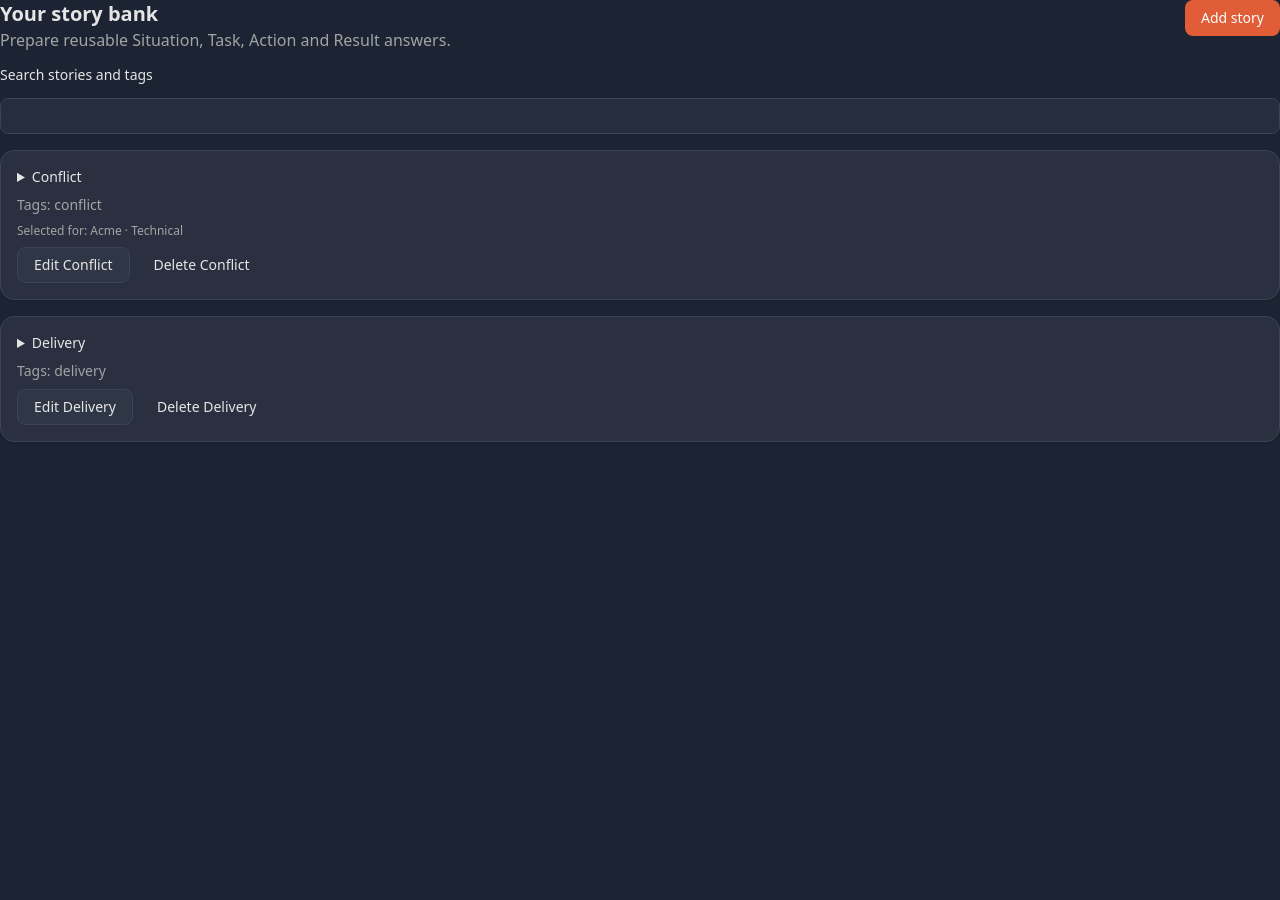
Test: story bank UI › keeps edits available after a failed save
Click the button "Add story".
click(1232, 18)  # box [1185, 0, 1279, 36]
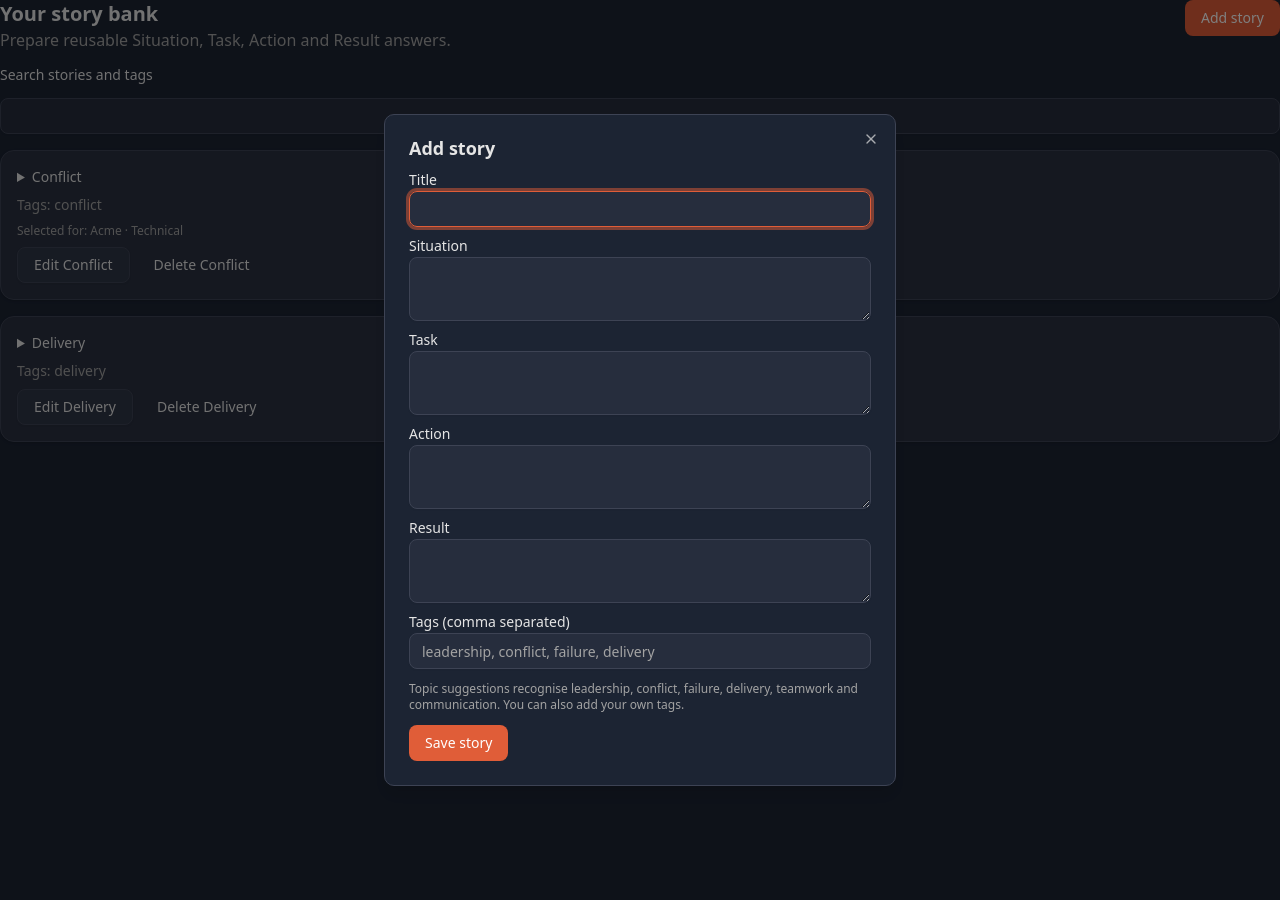
Type "Keep this draft" into the field labelled "Title".
click(640, 209); type("Keep this draft")  # box [409, 191, 871, 227]
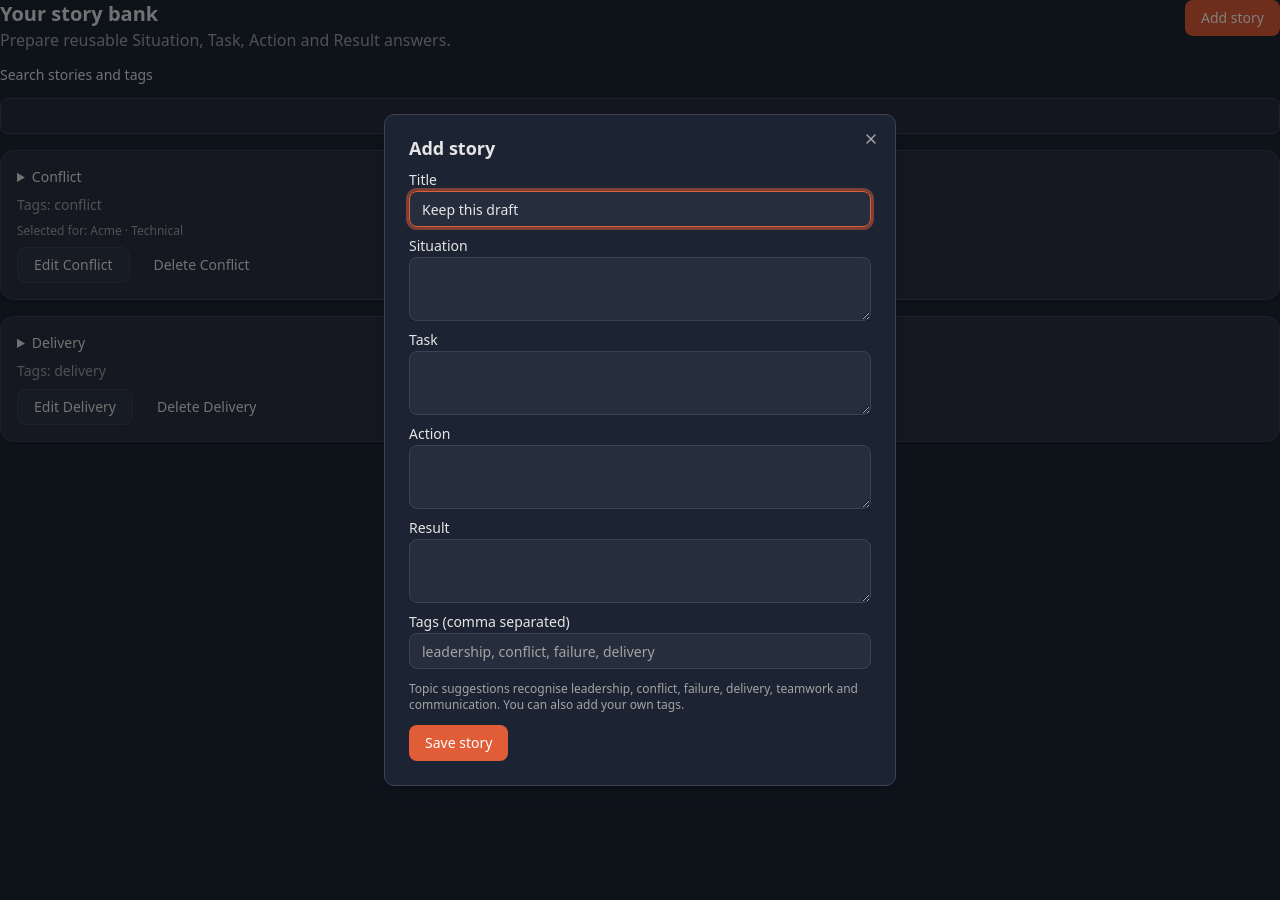
Click the button "Save story".
click(459, 743)  # box [409, 725, 508, 761]
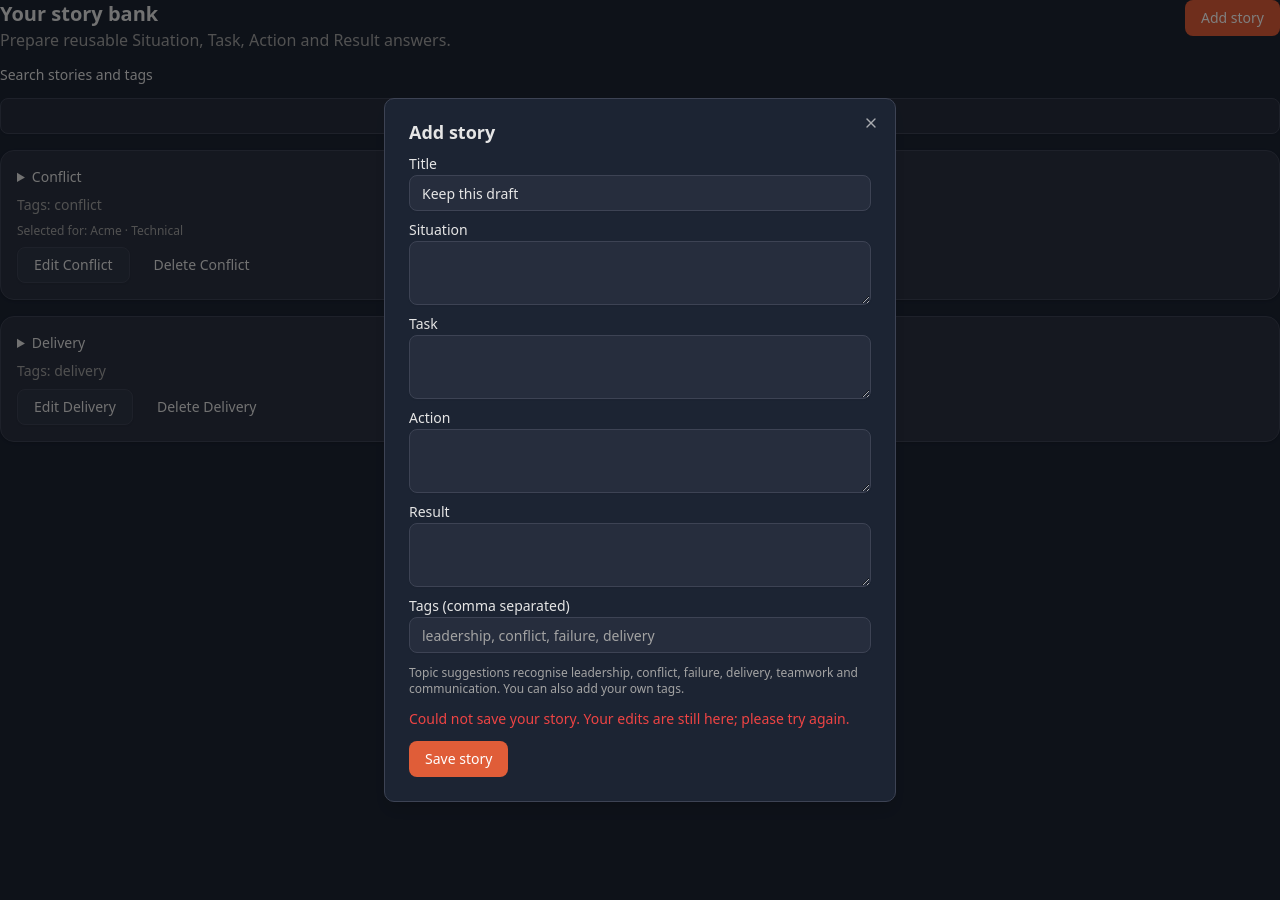
Result: the message shows "Your edits are still here" at [409, 709, 850, 728]
